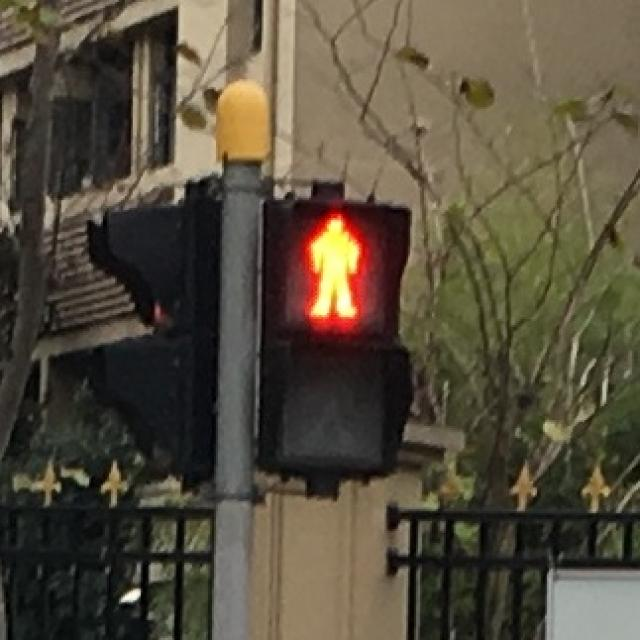red_light: (289, 196, 376, 337)
